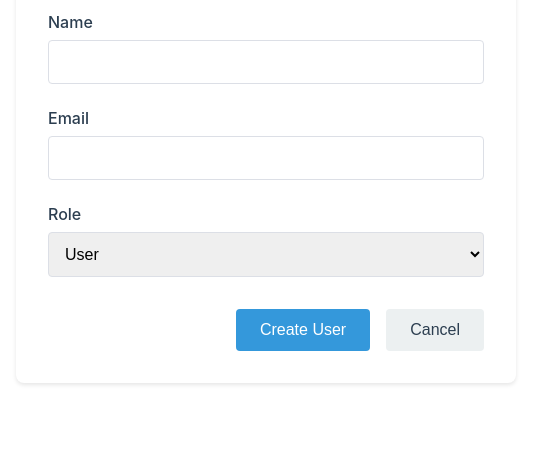
Test: UserForm › Form Interaction › clears validation errors when user starts typing
# Submit empty form to trigger validation errors
Click the button with test id "submit-button". click: [303, 330]
box: [236,309,370,351]
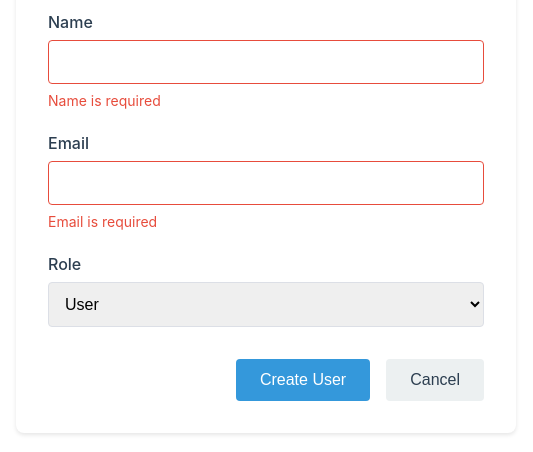
Expected: the text "Name is required" is shown, [48,92,161,109]
# Start typing in name field
Type "J" into the field with test id "name-input". click: [266, 62]
box: [48,40,484,84]
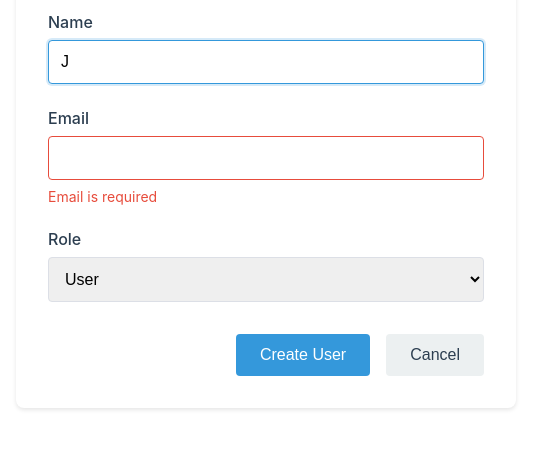
Expected: the text with test id "name-error" is gone
